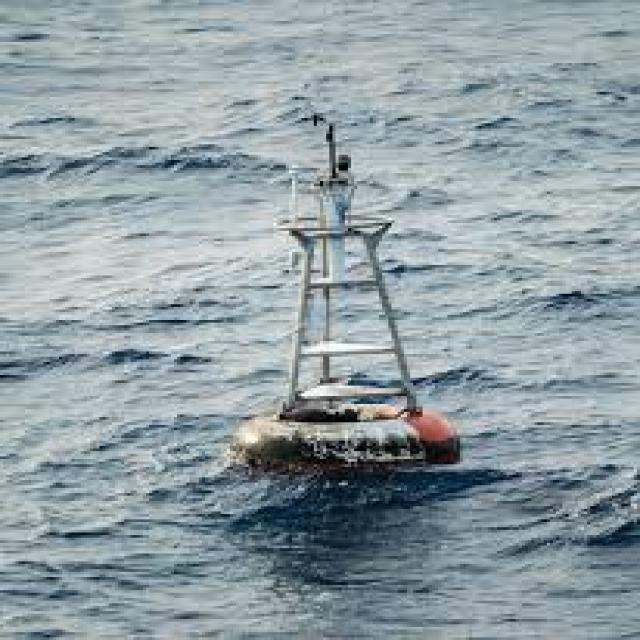marque: (236, 77, 461, 482)
